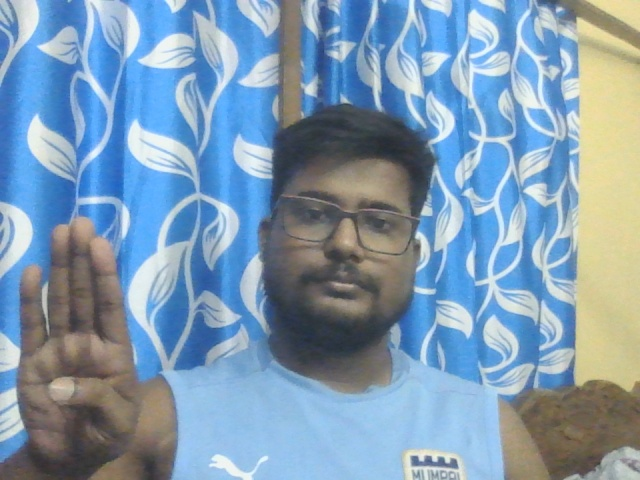B: (18, 215, 143, 461)
